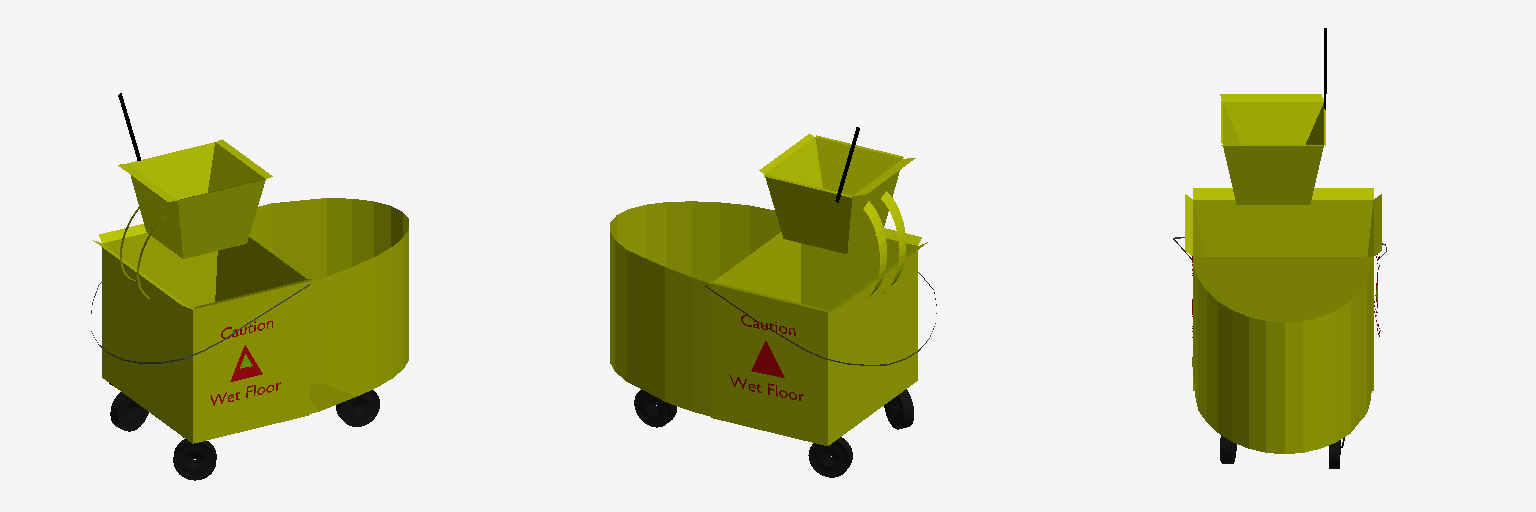
Rendered from mop_bucket_5.obj.
The picture shows the model from 3 angles: view 1: azimuth 30°, elevation 25°; view 2: azimuth 150°, elevation 25°; view 3: azimuth 270°, elevation 25°; orthographic projection.
Parts seen in each view (by area): view 1: mop_bucket_5:Mesh; view 2: mop_bucket_5:Mesh; view 3: mop_bucket_5:Mesh.
Part boxes in pixels (x1,y1,x2,y2): mop_bucket_5:Mesh: (91,93,408,480); mop_bucket_5:Mesh: (610,127,936,477); mop_bucket_5:Mesh: (1173,28,1386,468).
Bounding box in the file's own units: 0.3622 × 0.4026 × 0.2249.